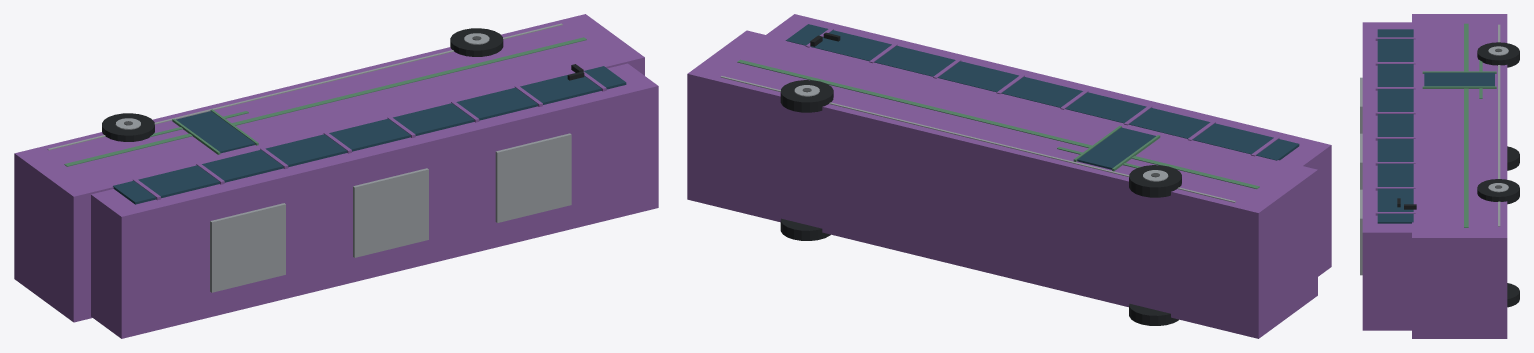
File: RM_Bus_28.glb
3 renders of one model, left to right at view 1: azimuth 30°, elevation 25°; view 2: azimuth 150°, elevation 25°; view 3: azimuth 270°, elevation 25°, orthographic. The views are drawn at different scales.
Parts seen in each view (by area): view 1: part_001, part_000, part_002, part_039, part_038, part_037, part_013, part_040, part_014, part_030, part_024; view 2: part_000, part_002, part_001, part_013, part_040, part_030, part_024, part_014, part_027, part_021; view 3: part_000, part_001, part_002, part_040, part_013, part_024, part_030, part_014, part_021, part_027, part_039, part_042 (+5 smaller).
Boxes of the visible parts, x1,y1,x2,y2 form: part_001: (91,63,658,338); part_000: (14,14,644,322); part_002: (113,66,626,204); part_039: (495,133,571,222); part_038: (353,168,428,257); part_037: (210,203,285,292); part_013: (64,37,586,166); part_040: (176,111,254,153); part_014: (47,23,562,150); part_030: (450,28,503,56); part_024: (102,113,154,141); part_000: (687,30,1317,338); part_002: (785,24,1299,160); part_001: (766,14,1331,276); part_013: (737,59,1259,188); part_040: (1077,127,1155,169); part_030: (780,80,833,112); part_024: (1129,165,1181,197); part_014: (720,76,1235,202); part_027: (780,218,830,240); part_021: (1129,303,1178,325); part_000: (1412,14,1507,338); part_001: (1362,22,1411,330); part_002: (1377,29,1413,223); part_040: (1424,72,1494,86); part_013: (1464,23,1468,227); part_024: (1477,42,1519,67); part_030: (1477,179,1519,204); part_014: (1498,24,1500,226); part_021: (1507,146,1519,170); part_027: (1507,283,1519,307); part_039: (1360,189,1362,275); part_042: (1422,86,1496,88).
Size of the model in its own units: 11.64 by 2.77 by 3.51.
